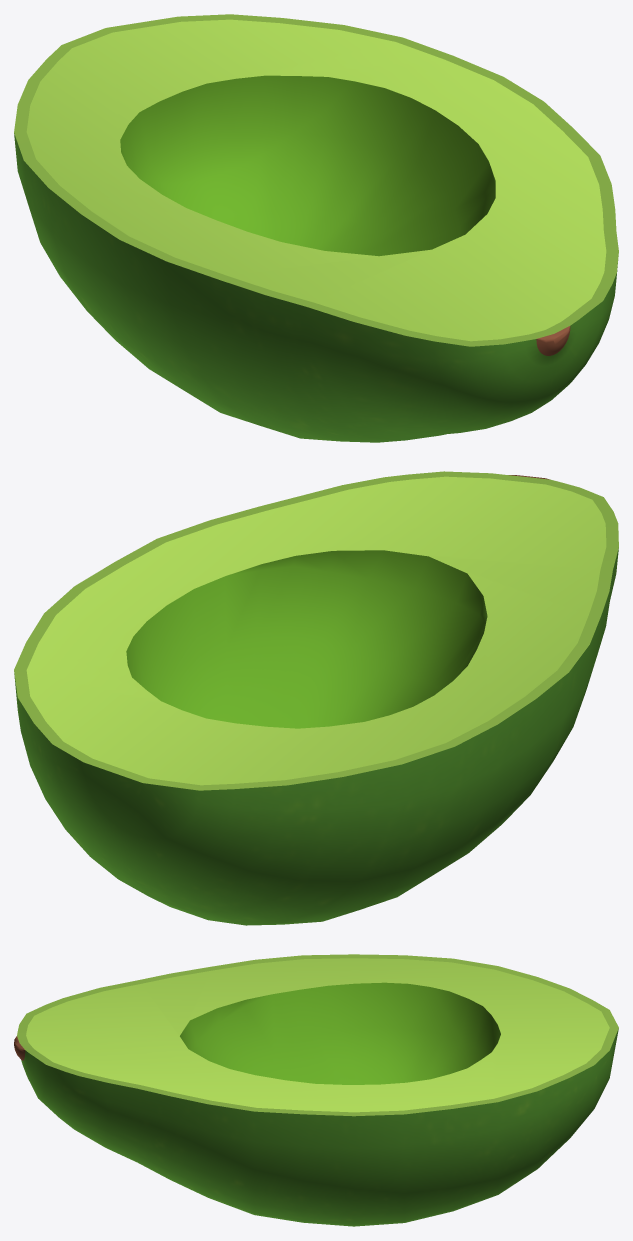
File: Avocado_Half.fbx
3 views of the same model, one above another, from view 1: azimuth 30°, elevation 25°; view 2: azimuth 150°, elevation 25°; view 3: azimuth 270°, elevation 25° (orthographic). The views are drawn at different scales.
Visible parts, largest first — view 1: Sphere.008; view 2: Sphere.008; view 3: Sphere.008.
Part boxes in pixels (left/top/right/bottom): Sphere.008: left=14, top=14, right=618, bottom=442; Sphere.008: left=14, top=471, right=618, bottom=925; Sphere.008: left=14, top=954, right=618, bottom=1226.
Bounding box in the file's own units: 93.35 × 46.69 × 147.
